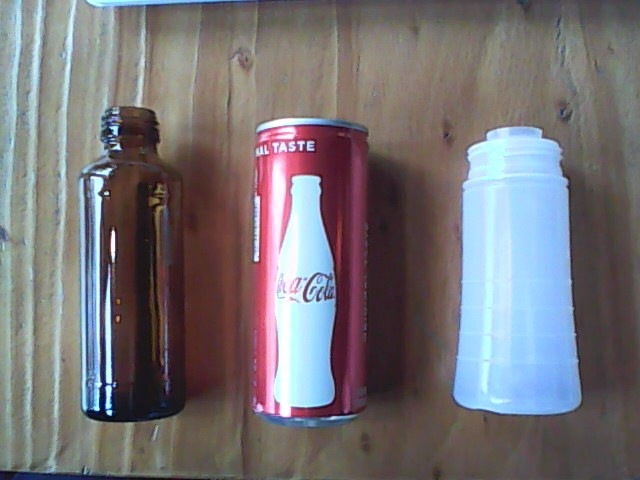Can: (243, 114, 376, 430)
Glass: (73, 105, 193, 424)
Plastic: (444, 124, 591, 418)
